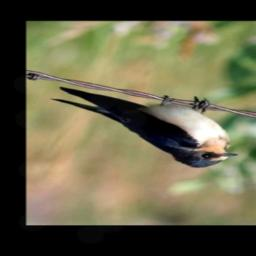Swallow: (51, 83, 240, 170)
